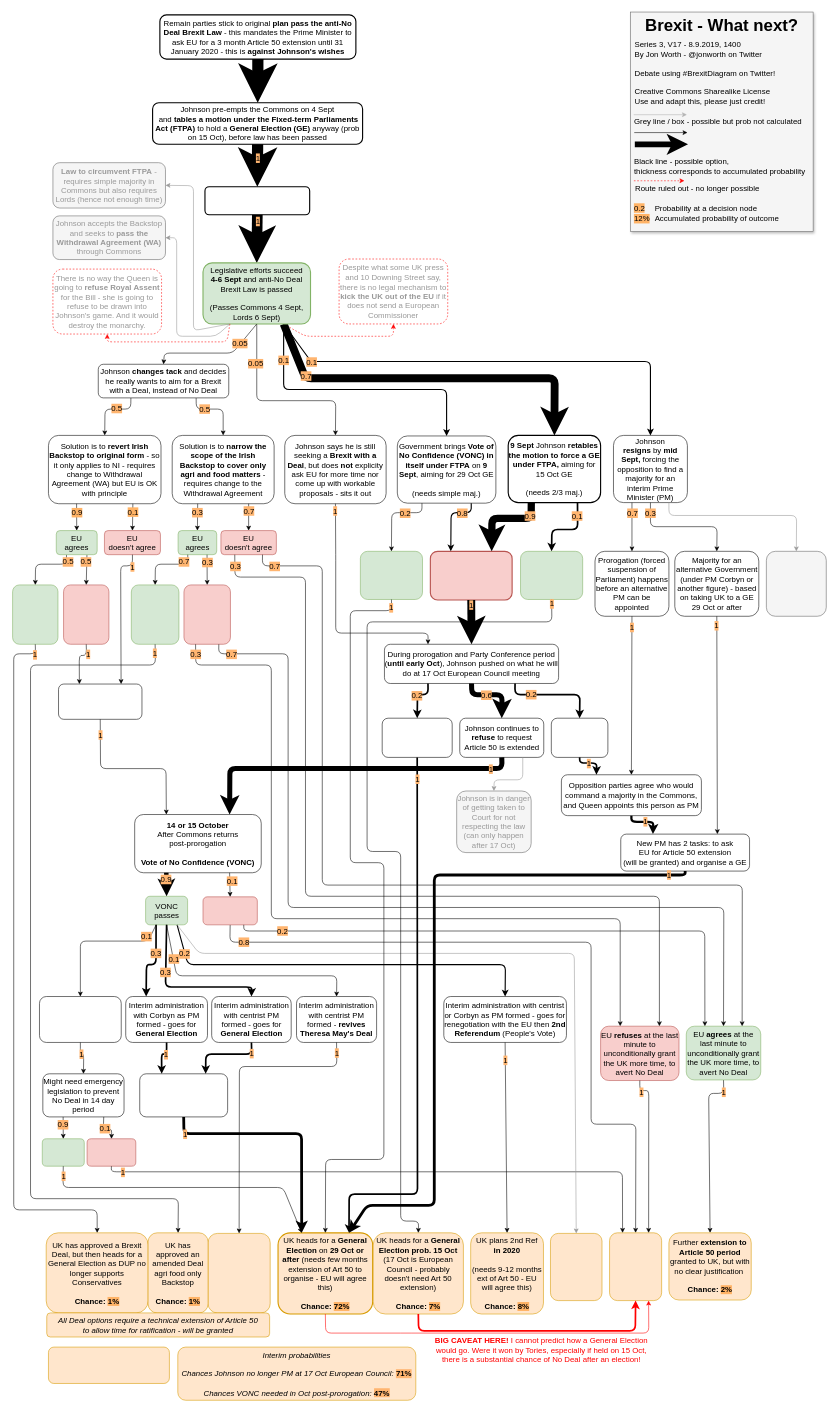
Some shapes in this 836 by 1410 pixel diagram are drawn without their labels. The shapes that lost their labels are listed below. From the top down, each one's centre as x and y in pixels, then its label:
point (257, 200): 2/3 majority needed under FTPA is not achieved
point (391, 575): Labour is OK with this, so simple majority achieved
point (471, 575): Labour refuses to vote in favour, chooses to wait until after 14 Oct to call GE
point (551, 575): Labour is OK with this, so 2/3 majority achieved
point (796, 583): No majority for any alternative Government (under PM Corbyn or another figure)
point (35, 614): Commons votes in favour of Deal with original backstop
point (86, 614): Commons votes against Deal with original backstop
point (155, 614): Commons votes in favour of Deal with agrifood backstop
point (206, 614): Commons votes against Deal with agrifood backstop
point (100, 701): Democratic Unionist Party (DUP) furious at Johnson's approach
point (417, 737): Johnson agrees to request Article 50 is extended
point (579, 737): Johnson resigns prior to 14 Oct
point (229, 910): VONC doesn't pass
point (80, 1019): No administration can be formed, so after 14 days UK goes for General Election
point (183, 1095): Might need emergency legislation to prevent No Deal before 31 Oct - will pass
point (63, 1152): Legislation passes
point (111, 1152): Legislation doesn't pass
point (238, 1273): Brexit with a Deal happens legally but after 31 Oct 2019 Chance: 4%
point (576, 1267): Commons votes to Revoke Article 50 Chance: -%
point (635, 1266): No Deal Brexit looms on 31 October 2019 Chance: 5%
point (108, 1365): Cumulative Chance GE: 80% Cumulative Chance Deal: 6%
